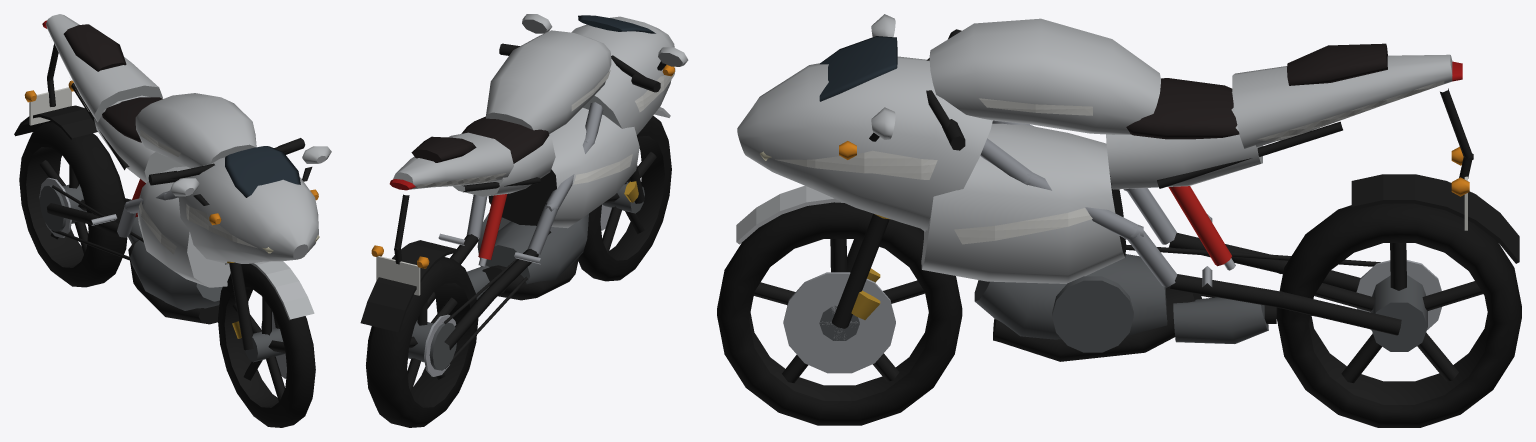
File: sport_bike.glb
3 renders of one model, left to right at view 1: azimuth 30°, elevation 25°; view 2: azimuth 150°, elevation 25°; view 3: azimuth 270°, elevation 25°, orthographic. The views are drawn at different scales.
Parts seen in each view (by area): view 1: sport_bike; view 2: sport_bike; view 3: sport_bike.
Boxes of the visible parts, box(x1,y1,x2,y2) form: sport_bike: box(14, 14, 331, 427); sport_bike: box(360, 14, 688, 427); sport_bike: box(717, 14, 1521, 427).
Bounding box in the file's own units: 0.66 × 1.05 × 1.97.
